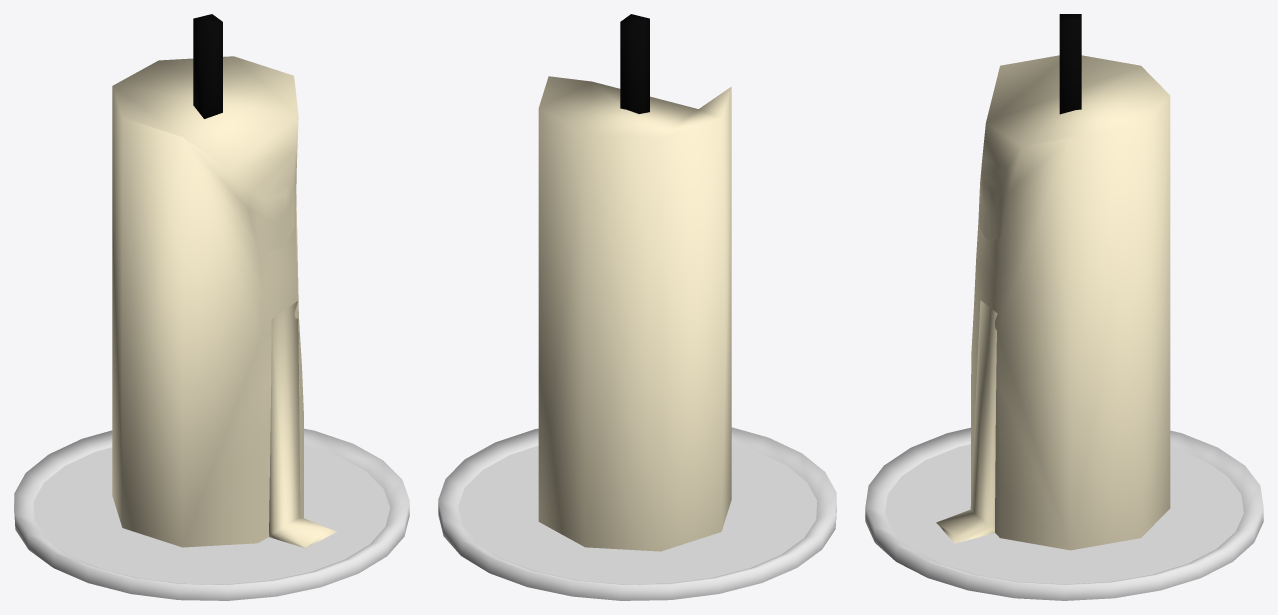
Rendered from Vela.fbx.
3 renders of one model, left to right at view 1: azimuth 30°, elevation 25°; view 2: azimuth 150°, elevation 25°; view 3: azimuth 270°, elevation 25°, orthographic.
Visible parts, largest first — view 1: Cube; view 2: Cube; view 3: Cube.
Part boxes in pixels (x1,y1,x2,y2): Cube: (14, 14, 409, 600); Cube: (438, 14, 836, 600); Cube: (865, 14, 1263, 600).
Size of the model in its own units: 398 by 551 by 399.
